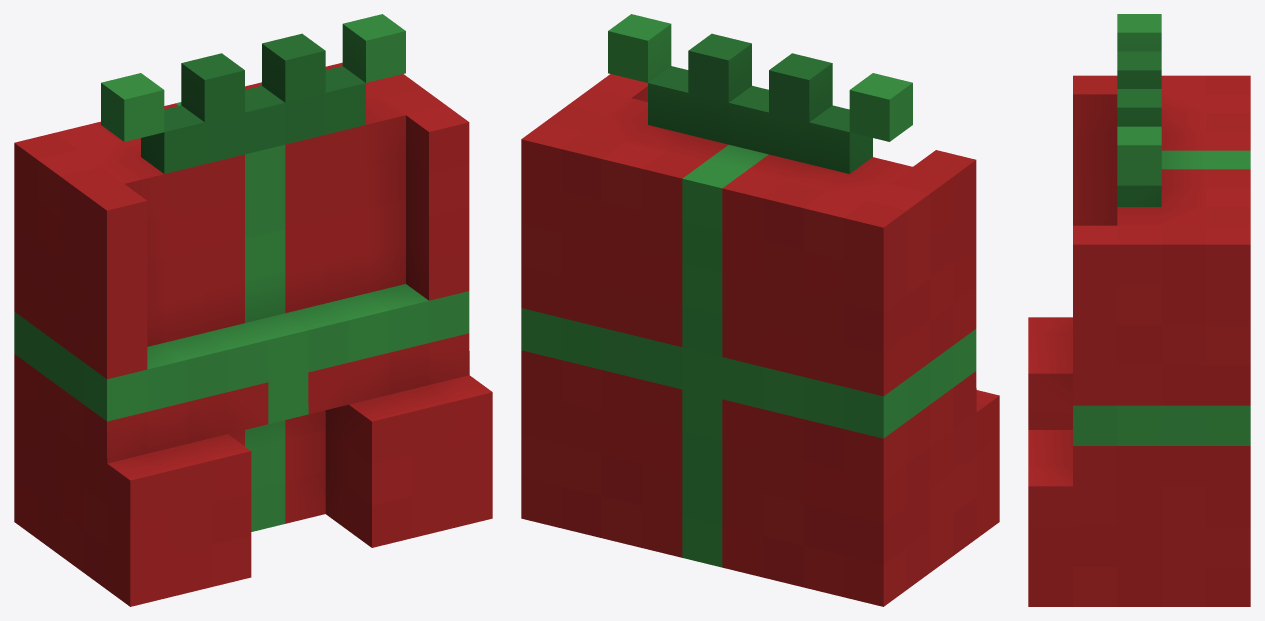
Rendered from back_giftbox.glb.
The picture shows the model from 3 angles, left to right: view 1: azimuth 30°, elevation 25°; view 2: azimuth 150°, elevation 25°; view 3: azimuth 270°, elevation 25°; orthographic projection. The views are drawn at different scales.
Parts seen in each view (by area): view 1: Back; view 2: Back; view 3: Back.
Part boxes in pixels (x1=…): Back: x1=14, y1=14, x2=492, y2=606; Back: x1=521, y1=14, x2=999, y2=606; Back: x1=1028, y1=14, x2=1250, y2=606.
Size of the model in its own units: 0.9902 by 1.21 by 0.5498.
